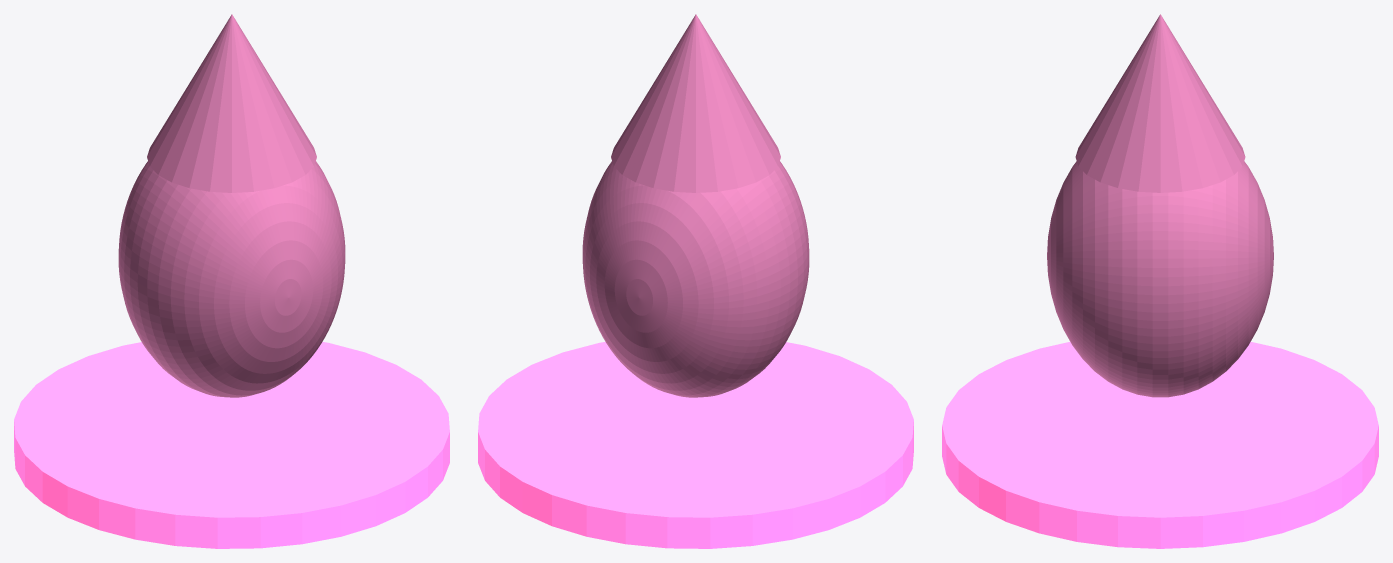
Rendered from beauty_beauty_blender.glb.
3 views of the same model, side by side, from view 1: azimuth 30°, elevation 25°; view 2: azimuth 150°, elevation 25°; view 3: azimuth 270°, elevation 25° (orthographic).
Visible parts, largest first — view 1: 03_11_Popular_Beauty_Beauty_Blender_ROOT_base, 03_11_Popular_Beauty_Beauty_Blender_part_01, 03_11_Popular_Beauty_Beauty_Blender_part_02; view 2: 03_11_Popular_Beauty_Beauty_Blender_ROOT_base, 03_11_Popular_Beauty_Beauty_Blender_part_01, 03_11_Popular_Beauty_Beauty_Blender_part_02; view 3: 03_11_Popular_Beauty_Beauty_Blender_ROOT_base, 03_11_Popular_Beauty_Beauty_Blender_part_01, 03_11_Popular_Beauty_Beauty_Blender_part_02.
Boxes of the visible parts, x1,y1,x2,y2 form: 03_11_Popular_Beauty_Beauty_Blender_ROOT_base: [14, 342, 449, 548]; 03_11_Popular_Beauty_Beauty_Blender_part_01: [118, 161, 345, 397]; 03_11_Popular_Beauty_Beauty_Blender_part_02: [147, 14, 316, 192]; 03_11_Popular_Beauty_Beauty_Blender_ROOT_base: [478, 342, 913, 548]; 03_11_Popular_Beauty_Beauty_Blender_part_01: [582, 161, 809, 397]; 03_11_Popular_Beauty_Beauty_Blender_part_02: [611, 14, 780, 192]; 03_11_Popular_Beauty_Beauty_Blender_ROOT_base: [942, 342, 1378, 548]; 03_11_Popular_Beauty_Beauty_Blender_part_01: [1047, 161, 1273, 397]; 03_11_Popular_Beauty_Beauty_Blender_part_02: [1075, 14, 1245, 192].
Bounding box in the file's own units: 0.76 × 0.85 × 0.76.
